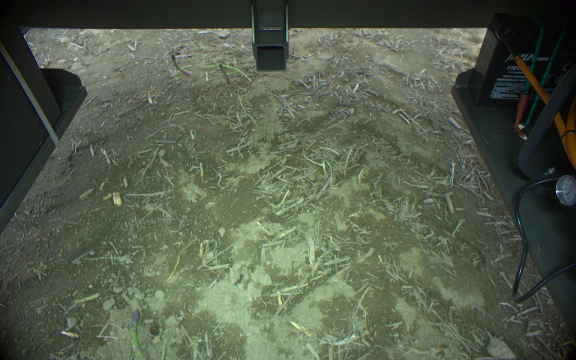aspa: (127, 307, 147, 360), (171, 53, 192, 77), (218, 63, 229, 86)
